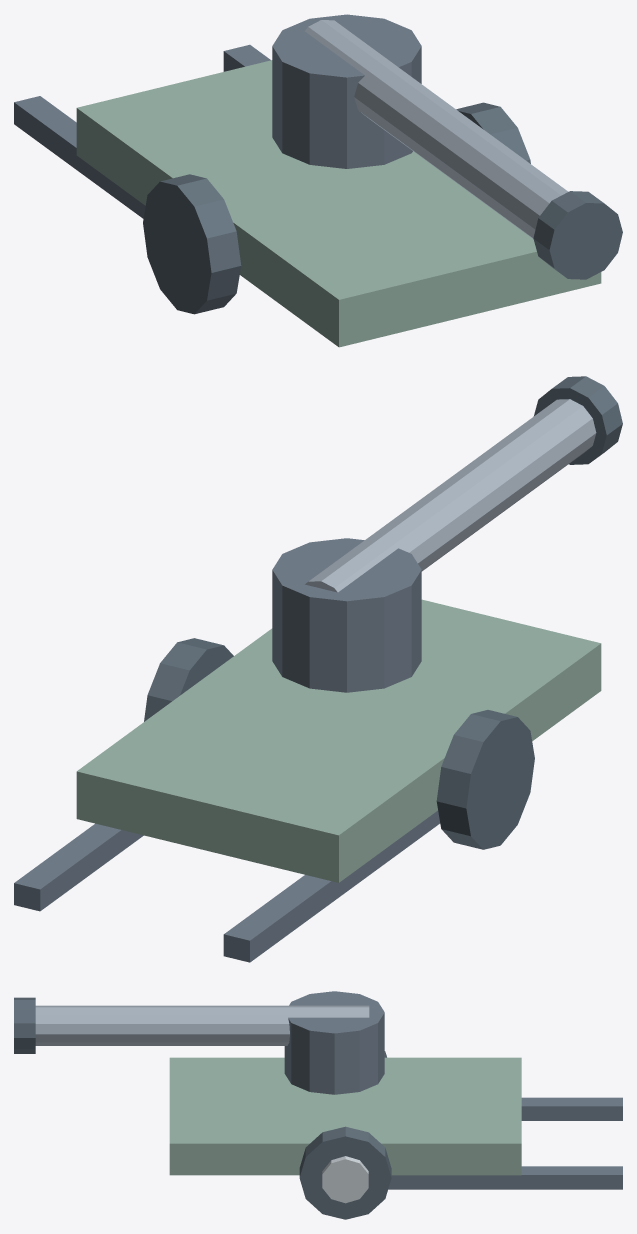
Rendered from field-artillery.glb.
3 views of the same model, one above another, from view 1: azimuth 30°, elevation 25°; view 2: azimuth 150°, elevation 25°; view 3: azimuth 270°, elevation 25° (orthographic). The views are drawn at different scales.
Parts seen in each view (by area): view 1: Artillerie de campagne; view 2: Artillerie de campagne; view 3: Artillerie de campagne.
Part boxes in pixels (<box>): Artillerie de campagne: <box>14,14,622,347</box>; Artillerie de campagne: <box>14,376,622,962</box>; Artillerie de campagne: <box>14,991,622,1219</box>.
Size of the model in its own units: 1.91 by 1.36 by 4.5.
